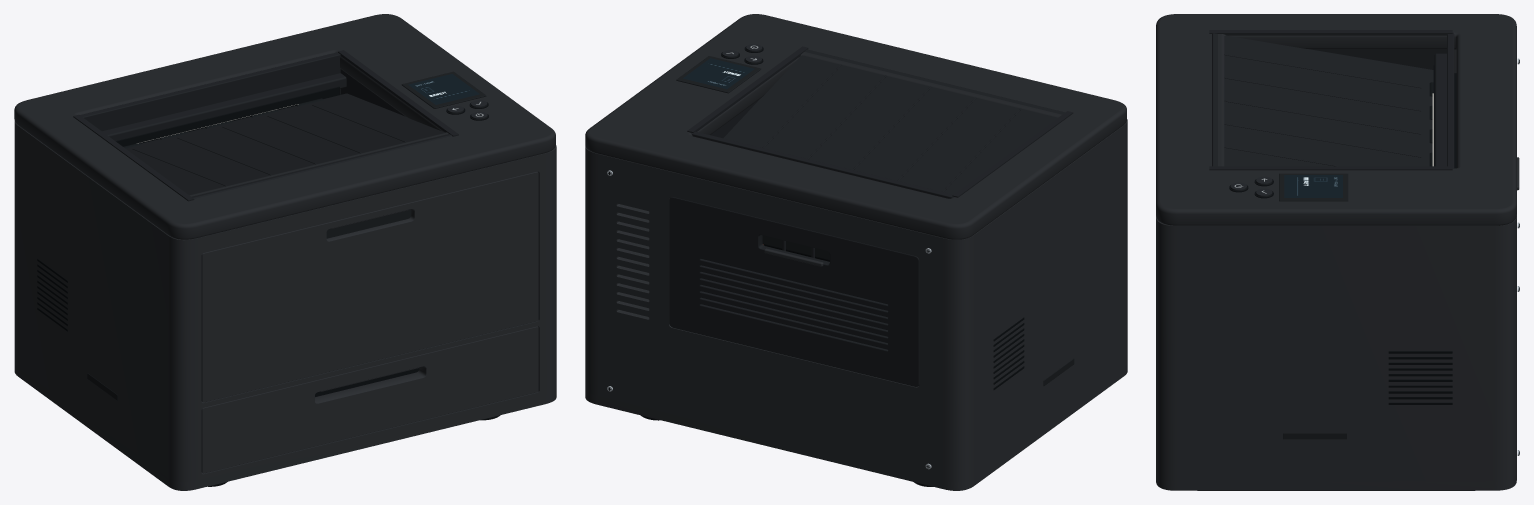
Rendered from sky-sky-printer-BNAiSO2H.glb.
3 views of the same model, side by side, from view 1: azimuth 30°, elevation 25°; view 2: azimuth 150°, elevation 25°; view 3: azimuth 270°, elevation 25° (orthographic). The views are drawn at different scales.
Visible parts, largest first — view 1: OuterHousing, ServicePanel, ContinuousTopHousing, TrayFront, OutputRamp, OutputPocketRearWall, BottomChassis, OutputSlotHood, OutputSlot, OutputPocketWall_Right, DisplayGlass, OutputPocketWall_Left (+2 smaller); view 2: OuterHousing, ContinuousTopHousing, RearDoorPanel, OutputRamp, BottomChassis, OutputPocketRearWall, OutputPocketWall_Right, DisplayGlass, OutputPocketWall_Left, DisplayBezel; view 3: OuterHousing, ContinuousTopHousing, OutputRamp, BottomChassis, OutputPocketWall_Left, OutputSlotHood, DisplayGlass, OutputPocketWall_Right, OutputPocketRearWall, DisplayBezel, SideRecess.
Boxes of the visible parts, x1,y1,x2,y2 form: OuterHousing: [14, 121, 556, 482]; ServicePanel: [201, 171, 538, 402]; ContinuousTopHousing: [14, 14, 555, 239]; TrayFront: [201, 326, 538, 473]; OutputRamp: [126, 93, 451, 198]; OutputPocketRearWall: [80, 52, 340, 131]; BottomChassis: [14, 364, 556, 490]; OutputSlotHood: [102, 73, 346, 140]; OutputSlot: [115, 86, 339, 146]; OutputPocketWall_Right: [338, 50, 458, 136]; DisplayGlass: [408, 74, 479, 104]; OutputPocketWall_Left: [73, 114, 194, 201]; OuterHousing: [585, 119, 1127, 482]; ContinuousTopHousing: [585, 14, 1126, 239]; RearDoorPanel: [669, 196, 919, 386]; OutputRamp: [723, 49, 1064, 194]; BottomChassis: [585, 364, 1127, 490]; OutputPocketRearWall: [690, 131, 954, 198]; OutputPocketWall_Right: [687, 46, 808, 137]; DisplayGlass: [683, 58, 754, 89]; OutputPocketWall_Left: [952, 111, 1073, 197]; DisplayBezel: [676, 56, 760, 93]; OuterHousing: [1156, 49, 1516, 481]; ContinuousTopHousing: [1156, 14, 1516, 225]; OutputRamp: [1212, 33, 1433, 166]; BottomChassis: [1156, 472, 1516, 490]; OutputPocketWall_Left: [1209, 30, 1452, 69]; OutputSlotHood: [1434, 53, 1446, 166]; DisplayGlass: [1284, 175, 1342, 197]; OutputPocketWall_Right: [1209, 166, 1452, 170]; OutputPocketRearWall: [1447, 32, 1454, 168]; DisplayBezel: [1279, 173, 1348, 201]; SideRecess: [1283, 433, 1346, 439].
Size of what is drawn, in the model's own units: 0.4962 by 0.3493 by 0.384.
20 materials, 5 textured.
